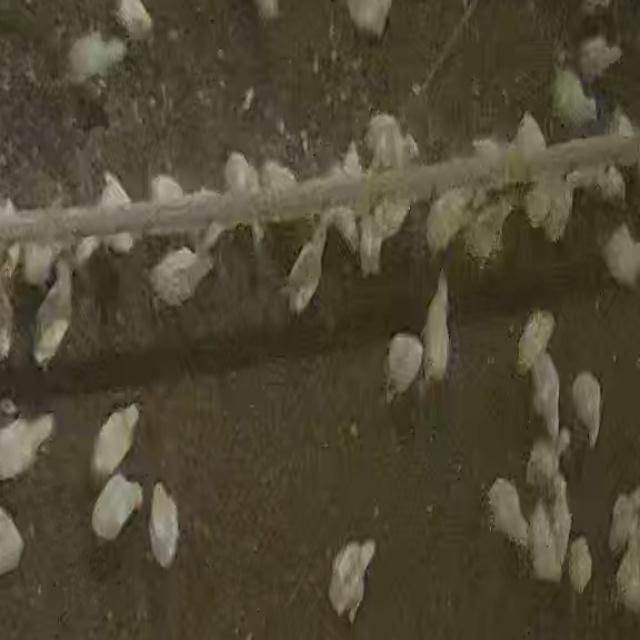chicken: (32, 261, 74, 368), (324, 538, 374, 625), (526, 484, 568, 584), (282, 231, 328, 317), (88, 477, 142, 550), (148, 246, 210, 309), (93, 171, 138, 256), (1, 412, 56, 481), (420, 271, 452, 389), (367, 334, 423, 400), (91, 405, 141, 476), (145, 171, 188, 253), (424, 188, 471, 261), (363, 112, 415, 175), (527, 350, 562, 442), (486, 477, 530, 549), (550, 64, 598, 130), (66, 38, 125, 89), (507, 112, 545, 187), (600, 222, 640, 291), (147, 481, 178, 568), (515, 309, 556, 374), (570, 369, 602, 452), (109, 0, 163, 49), (526, 428, 568, 491), (472, 195, 514, 254), (613, 522, 640, 612), (608, 486, 640, 560), (576, 34, 624, 82), (345, 0, 394, 43), (0, 504, 27, 578), (260, 158, 300, 206), (543, 176, 572, 242), (20, 240, 57, 288), (565, 536, 594, 597), (222, 151, 258, 197), (602, 165, 628, 204), (252, 0, 280, 22)
